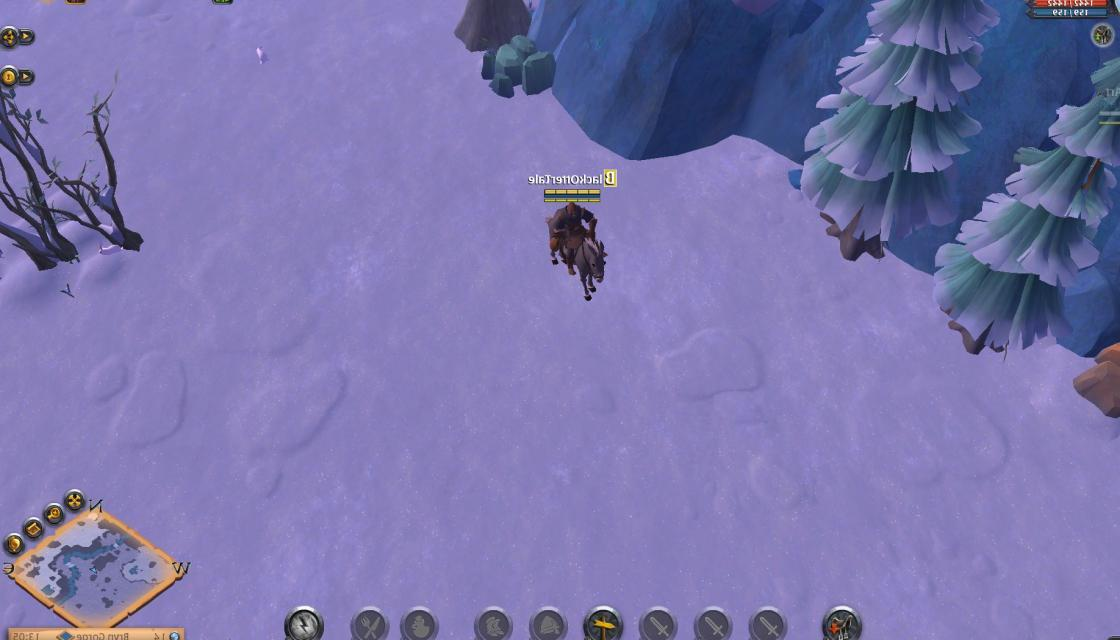limestone: (1067, 331, 1120, 424)
sandstone: (482, 33, 563, 96)
